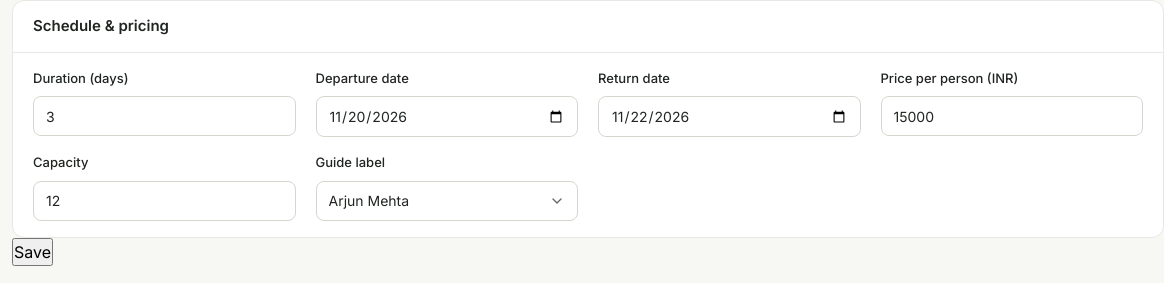
SchedulePricing › moves the return date when the departure date changes
This screenshot has width=1164, height=283.
In the date field labelled "Departure date": (447, 117) [328,97,565,136], type "2026-12-30"
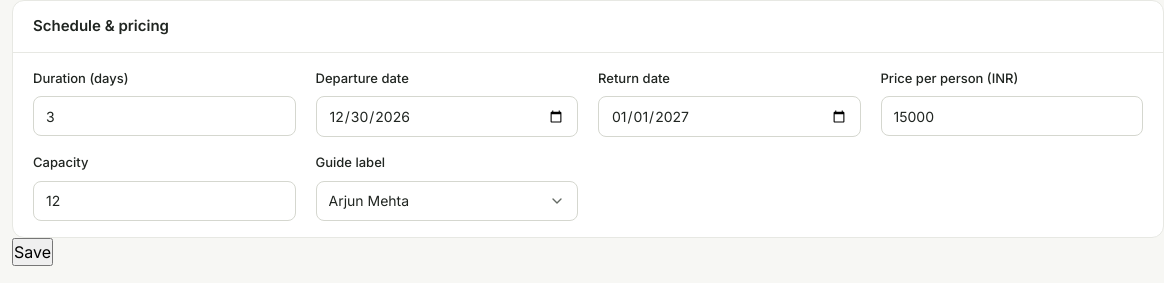
Now the date field labelled "Return date" holds "2027-01-01", box [611,97,848,136]
